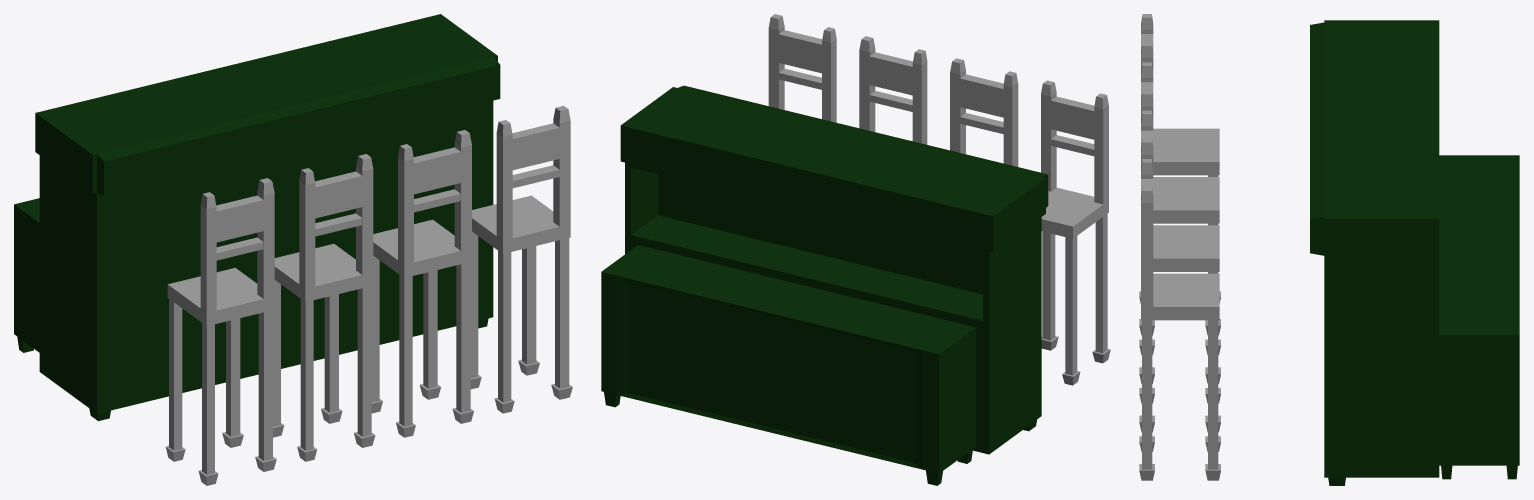
Rendered from kursi_bar.obj.
3 renders of one model, left to right at view 1: azimuth 30°, elevation 25°; view 2: azimuth 150°, elevation 25°; view 3: azimuth 270°, elevation 25°, orthographic. The views are drawn at different scales.
Parts seen in each view (by area): view 1: Cube, kursi_Cube.001; view 2: Cube, kursi_Cube.001; view 3: Cube, kursi_Cube.001.
Part boxes in pixels (box(x1,y1,x2,y2)): Cube: box(14, 14, 500, 421); kursi_Cube.001: box(165, 105, 572, 485); Cube: box(601, 85, 1048, 485); kursi_Cube.001: box(768, 14, 1110, 385); Cube: box(1310, 20, 1519, 485); kursi_Cube.001: box(1139, 14, 1220, 480).
Bounding box in the file's own units: 4.59 × 3.12 × 3.72.
